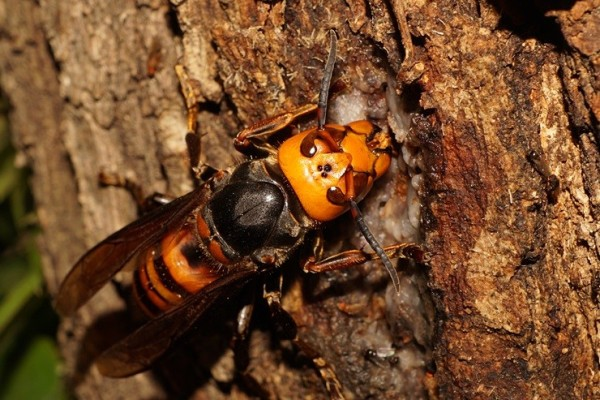asian_giant_hornet: (128, 84, 398, 331)
